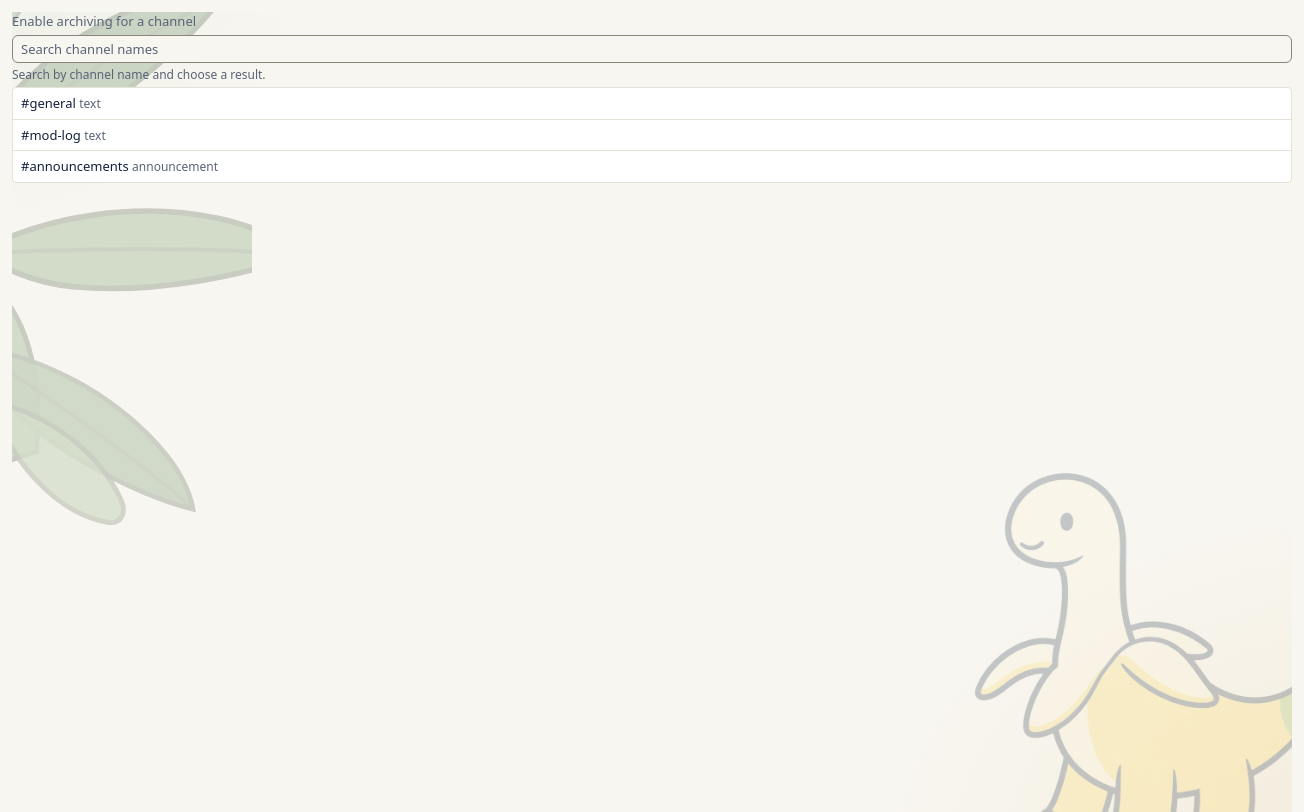
Test: ChannelPicker › offers named channels and fills the snowflake when one is clicked
Click the button "#general text".
click(53, 103)  # box x1=13 y1=88 x2=1291 y2=119
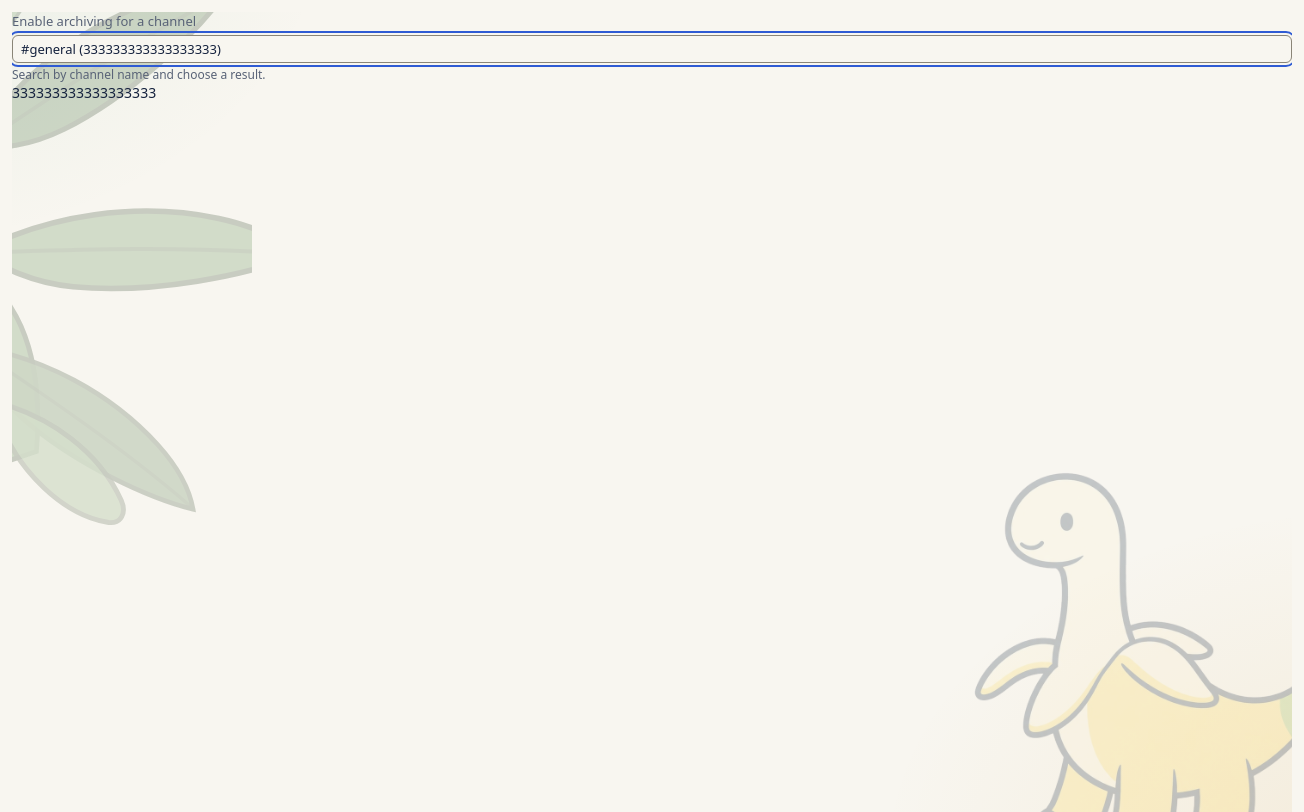
Expected: the text with test id "value" reads "333333333333333333", x1=12 y1=83 x2=156 y2=102
Expected: the field labelled "Enable archiving for a channel" holds "#general (333333333333333333)", x1=12 y1=35 x2=1292 y2=63
